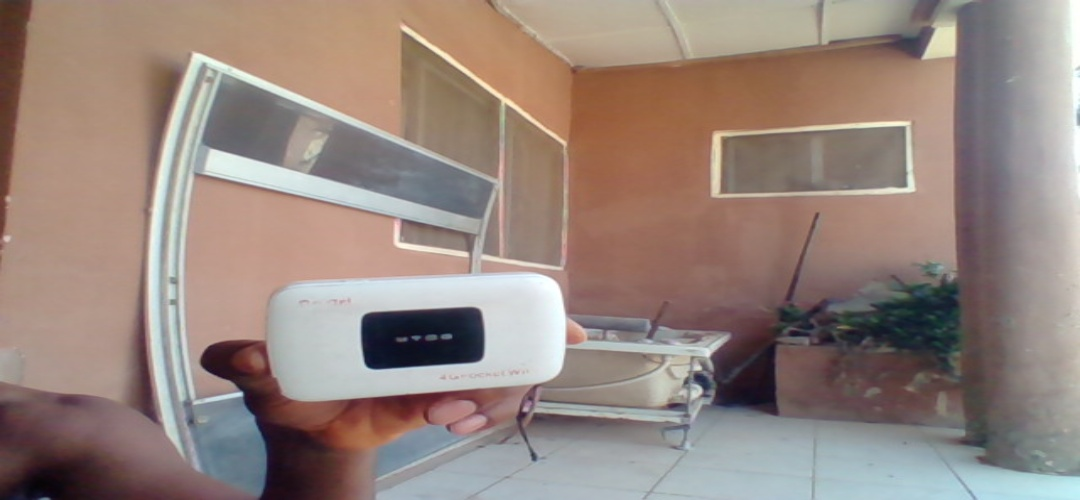mifi: (263, 276, 568, 400)
